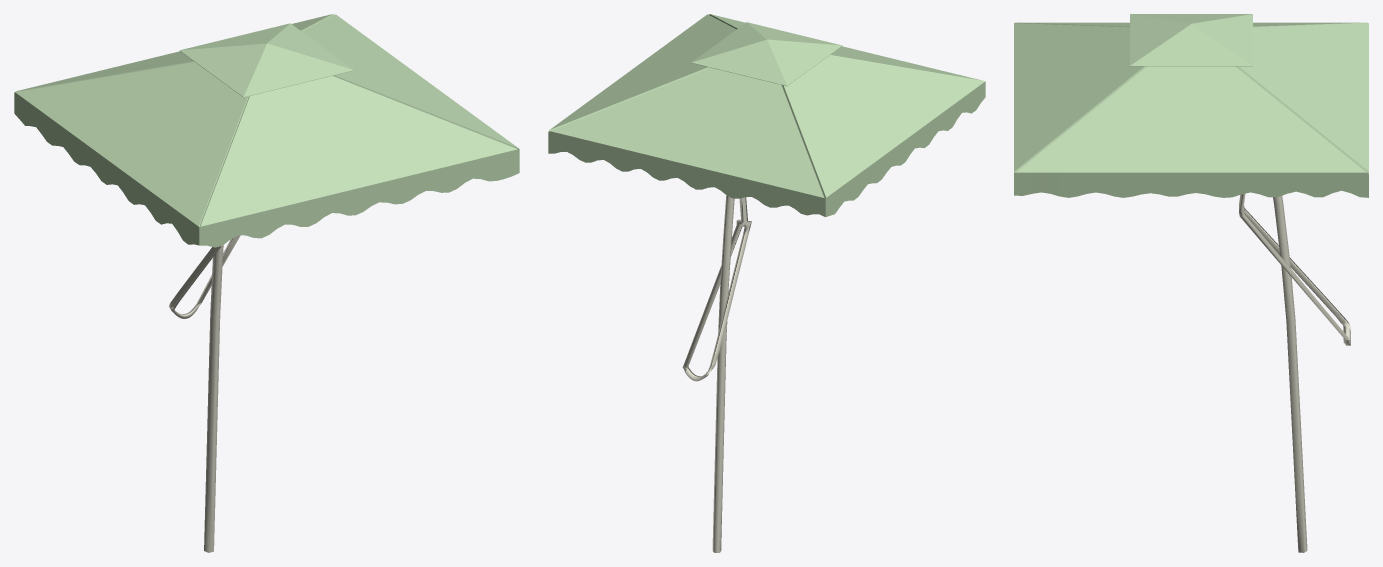
Rendered from GiantUmbrella.fbx.
3 renders of one model, left to right at view 1: azimuth 30°, elevation 25°; view 2: azimuth 150°, elevation 25°; view 3: azimuth 270°, elevation 25°, orthographic. The views are drawn at different scales.
Visible parts, largest first — view 1: Cube, Cylinder; view 2: Cube, Cylinder; view 3: Cube, Cylinder.
Part boxes in pixels (<box>): Cube: <box>14,14,519,247</box>; Cylinder: <box>169,235,240,552</box>; Cube: <box>548,14,985,217</box>; Cylinder: <box>682,195,751,552</box>; Cube: <box>1014,14,1368,197</box>; Cylinder: <box>1239,193,1350,552</box>.
Bounding box in the file's own units: 699 × 1146 × 699.
